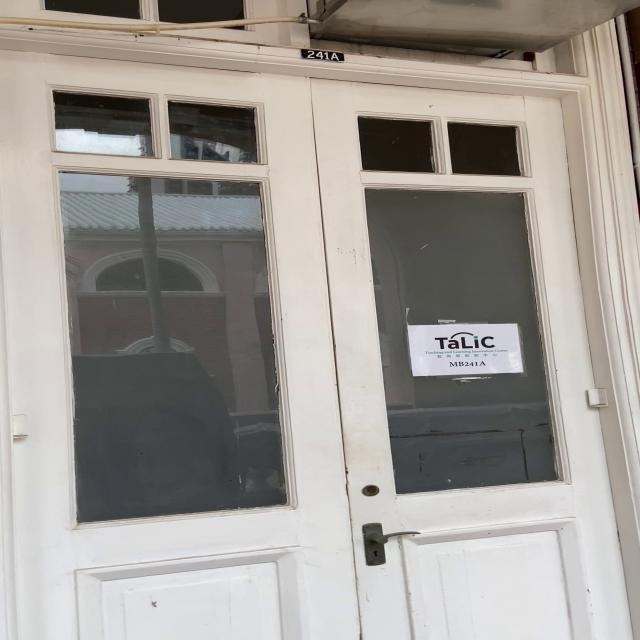room241a: (296, 46, 344, 62)
